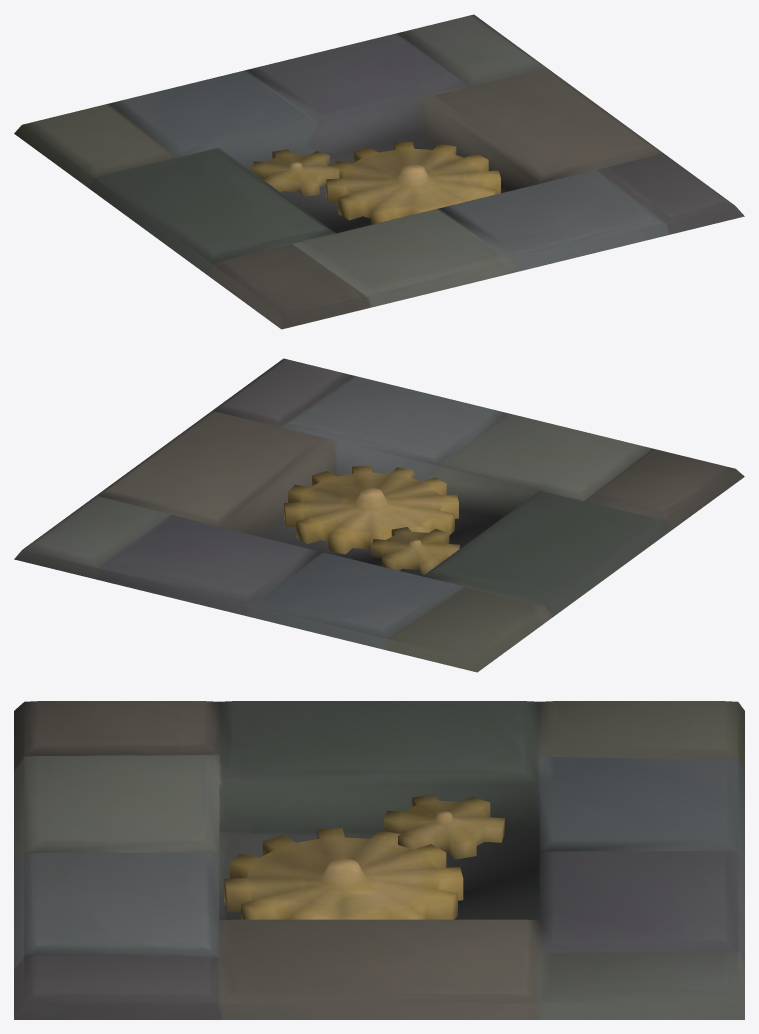
File: floor_rotating.fbx
3 views of the same model, one above another, from view 1: azimuth 30°, elevation 25°; view 2: azimuth 150°, elevation 25°; view 3: azimuth 270°, elevation 25° (orthographic). The views are drawn at different scales.
Visible parts, largest first — view 1: Floor_Rotating_Tiles, Gear1, Gear2; view 2: Floor_Rotating_Tiles, Gear1, Gear2; view 3: Floor_Rotating_Tiles, Gear1, Gear2.
Part boxes in pixels (x1=…): Floor_Rotating_Tiles: x1=14, y1=14, x2=744, y2=329; Gear1: x1=326, y1=142, x2=500, y2=224; Gear2: x1=251, y1=149, x2=340, y2=196; Floor_Rotating_Tiles: x1=14, y1=358, x2=744, y2=672; Gear1: x1=284, y1=465, x2=458, y2=554; Gear2: x1=371, y1=527, x2=459, y2=574; Floor_Rotating_Tiles: x1=14, y1=701, x2=744, y2=1019; Gear1: x1=224, y1=828, x2=463, y2=919; Gear2: x1=383, y1=794, x2=504, y2=859.
Bounding box in the file's own units: 200 × 43.6 × 200.
3 materials, 3 textured.
